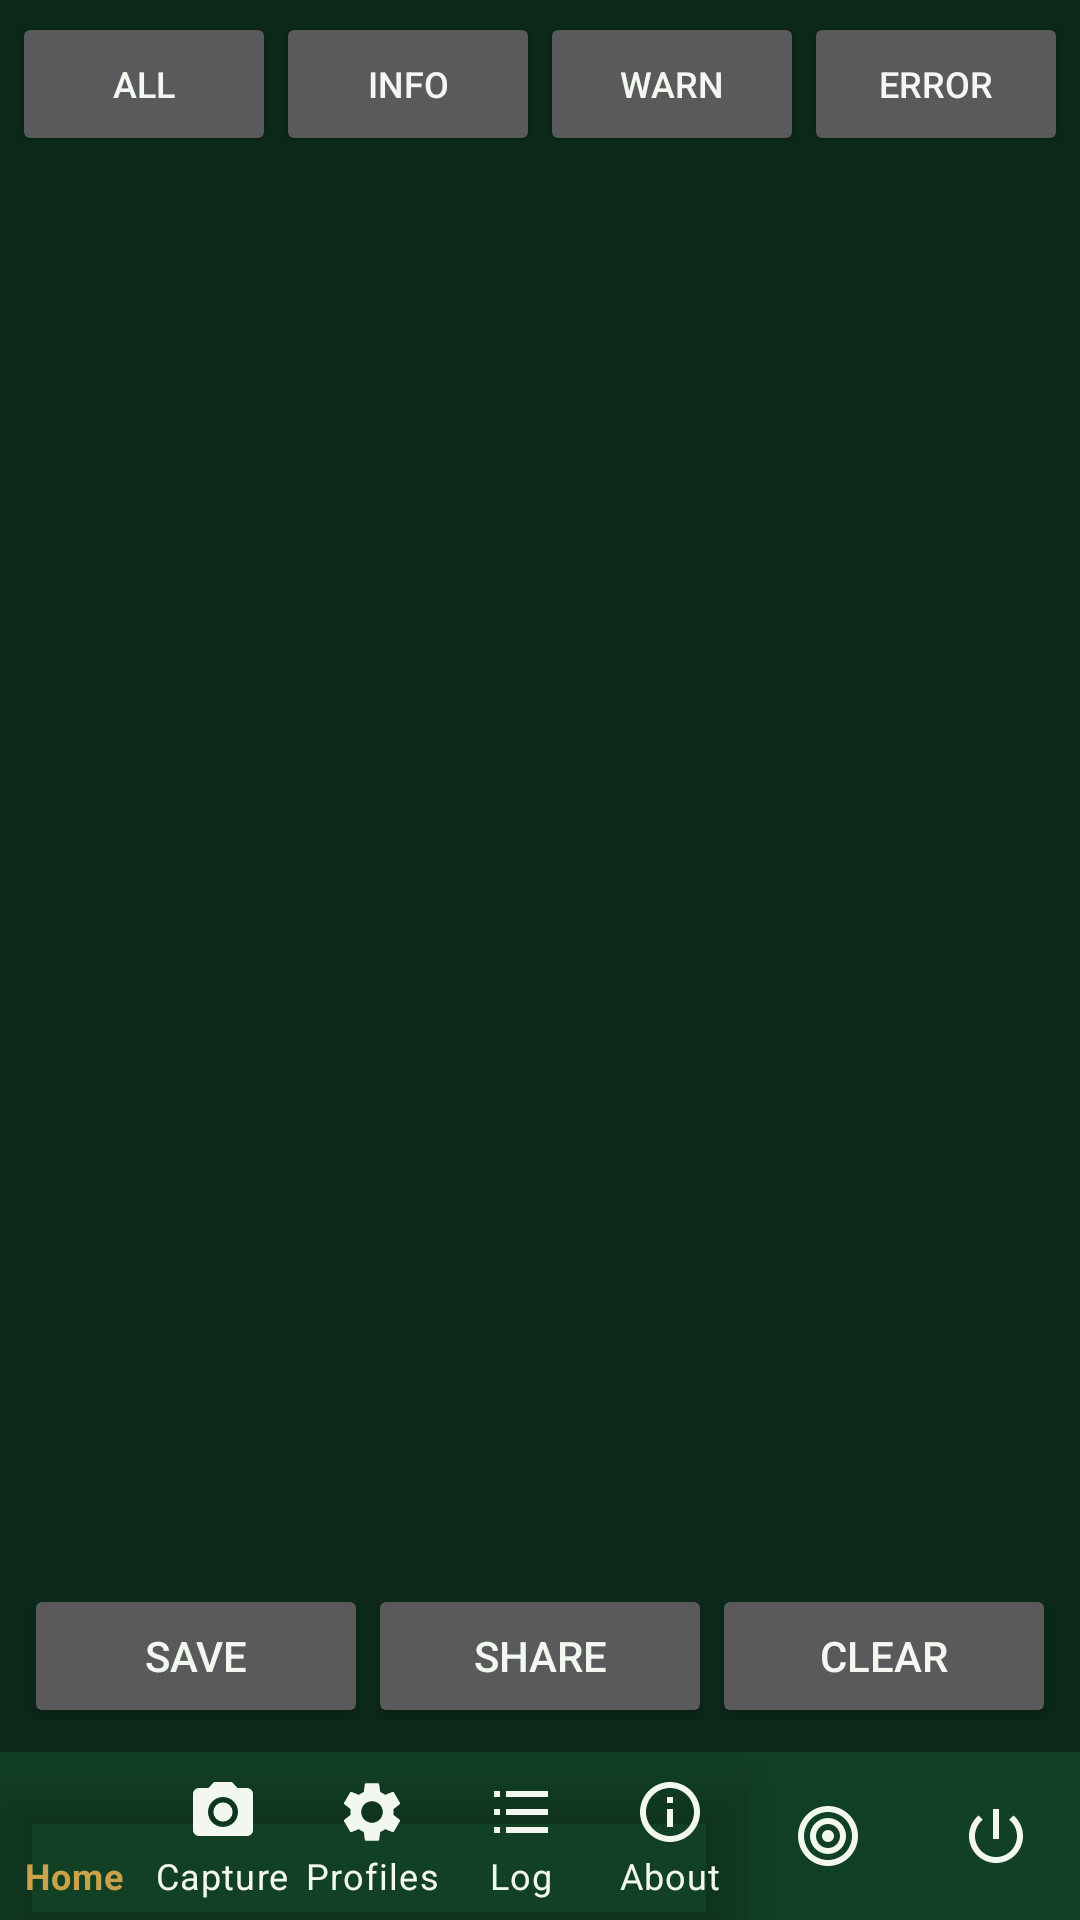

Where icons sit on this 1080px x 1920px app screen, as (x1, y1, x2, y2):
exit: (969, 1809, 1023, 1863)
